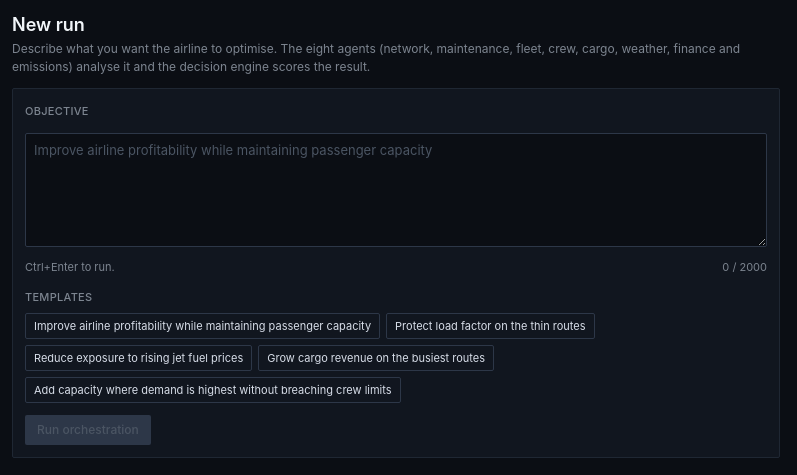
Test: NewRunPage › fills the objective from a template chip
Click the button "Protect load factor on the thin routes".
click(490, 326)  # box top-left (386, 313), bottom-right (595, 339)
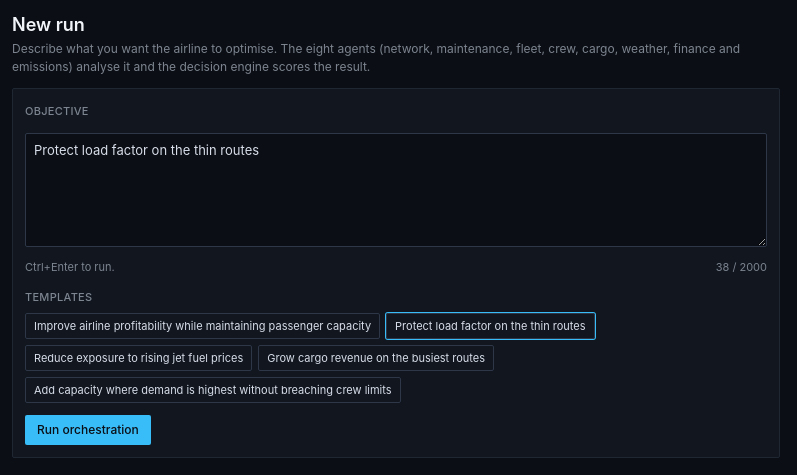
expect the text box labelled "Objective" holds "Protect load factor on the thin routes": met, box top-left (25, 133), bottom-right (767, 247)
